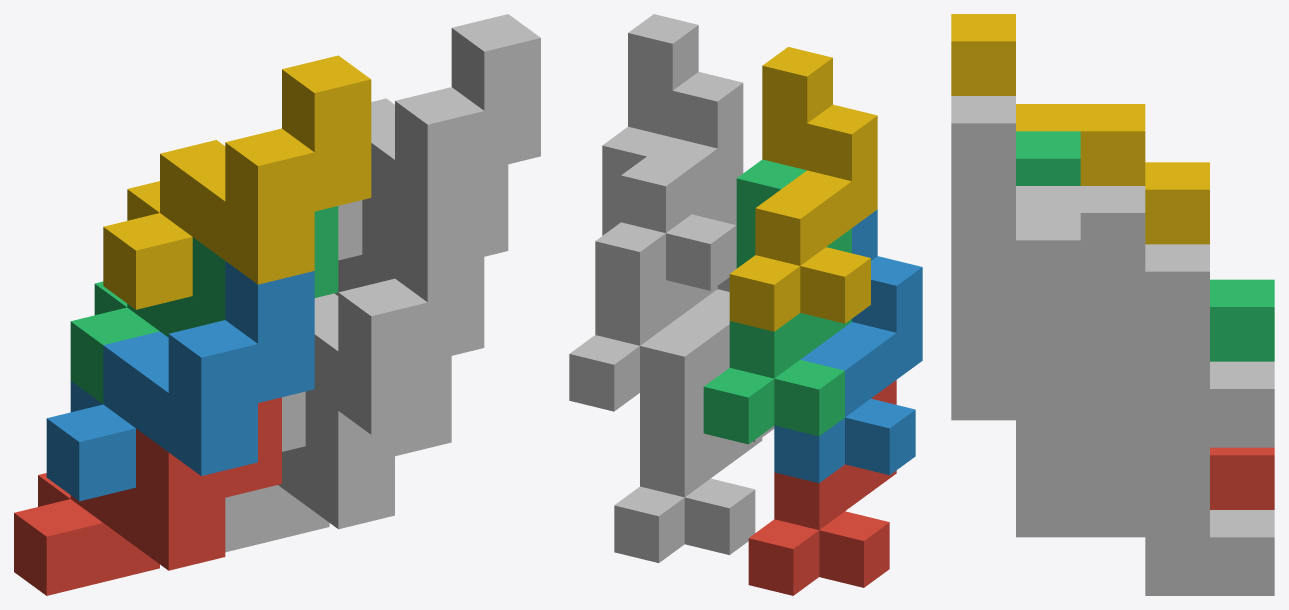
File: tiling.obj
3 renders of one model, left to right at view 1: azimuth 30°, elevation 25°; view 2: azimuth 150°, elevation 25°; view 3: azimuth 270°, elevation 25°, orthographic. The views are drawn at different scales.
Visible parts, largest first — view 1: copy_1_domain_4, copy_1_domain_2, copy_1_domain_8, copy_1_domain_6, copy_1_domain_1, copy_1_domain_5, copy_1_domain_3, copy_1_domain_7; view 2: copy_1_domain_4, copy_1_domain_8, copy_1_domain_2, copy_1_domain_3, copy_1_domain_7, copy_1_domain_1, copy_1_domain_5, copy_1_domain_6; view 3: copy_1_domain_7, copy_1_domain_8, copy_1_domain_5, copy_1_domain_4, copy_1_domain_6, copy_1_domain_3, copy_1_domain_1.
Part boxes in pixels (left/top/right/bottom): copy_1_domain_4: left=103, top=55, right=371, bottom=309; copy_1_domain_2: left=46, top=261, right=314, bottom=501; copy_1_domain_8: left=338, top=14, right=540, bottom=260; copy_1_domain_6: left=282, top=219, right=484, bottom=451; copy_1_domain_1: left=14, top=397, right=281, bottom=595; copy_1_domain_5: left=225, top=356, right=451, bottom=552; copy_1_domain_3: left=70, top=206, right=338, bottom=403; copy_1_domain_7: left=335, top=164, right=508, bottom=295; copy_1_domain_4: left=729, top=47, right=877, bottom=331; copy_1_domain_8: left=595, top=14, right=743, bottom=298; copy_1_domain_2: left=774, top=209, right=922, bottom=483; copy_1_domain_3: left=703, top=159, right=851, bottom=444; copy_1_domain_7: left=569, top=126, right=717, bottom=411; copy_1_domain_1: left=748, top=380, right=896, bottom=595; copy_1_domain_5: left=614, top=434, right=762, bottom=562; copy_1_domain_6: left=640, top=181, right=774, bottom=450; copy_1_domain_7: left=1016, top=213, right=1274, bottom=447; copy_1_domain_8: left=951, top=96, right=1209, bottom=330; copy_1_domain_5: left=1016, top=389, right=1274, bottom=595; copy_1_domain_4: left=951, top=14, right=1209, bottom=244; copy_1_domain_6: left=951, top=271, right=1209, bottom=478; copy_1_domain_3: left=1016, top=131, right=1274, bottom=361; copy_1_domain_1: left=1210, top=447, right=1274, bottom=509.
Bounding box in the file's own units: 7 × 9 × 5.
